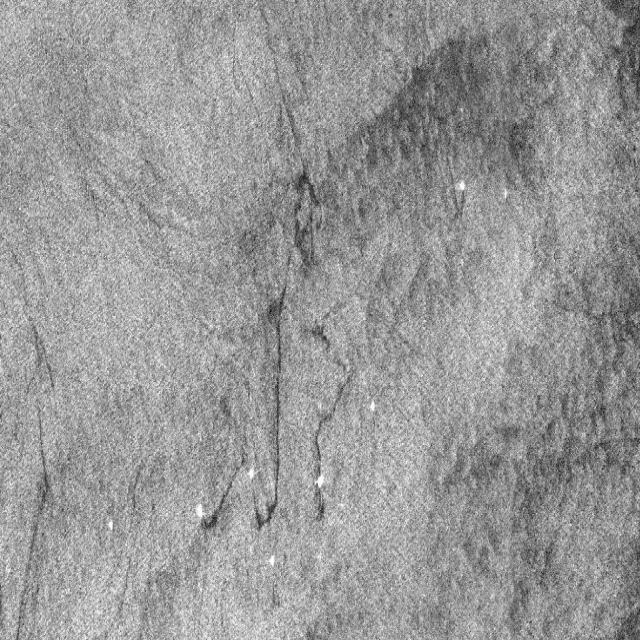oil-spill: (250, 263, 302, 526), (314, 382, 363, 467), (316, 319, 356, 381), (205, 479, 242, 528), (215, 388, 235, 424), (311, 493, 329, 528)
ship: (244, 459, 261, 492), (192, 496, 205, 524), (265, 550, 279, 571), (366, 393, 378, 415), (106, 514, 117, 537), (314, 473, 326, 493)
